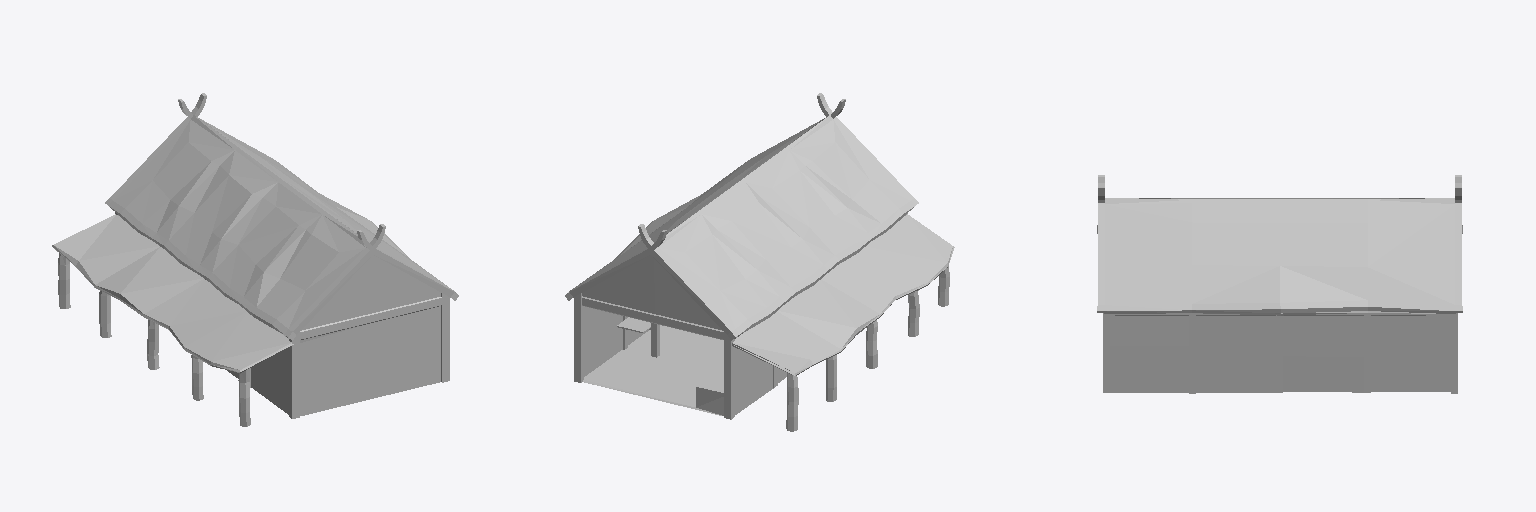
File: Storehouse_LOD01.obj
The picture shows the model from 3 angles: view 1: azimuth 30°, elevation 25°; view 2: azimuth 150°, elevation 25°; view 3: azimuth 270°, elevation 25°; orthographic projection.
Visible parts, largest first — view 1: Decals_LOD01_Longhouse_002, Storehouse_LOD01_Longhouse; view 2: Decals_LOD01_Longhouse_002, Storehouse_LOD01_Longhouse; view 3: Decals_LOD01_Longhouse_002, Storehouse_LOD01_Longhouse.
Part boxes in pixels (x1,y1,x2,y2): Decals_LOD01_Longhouse_002: (52, 115, 455, 387); Storehouse_LOD01_Longhouse: (99, 93, 458, 426); Decals_LOD01_Longhouse_002: (568, 115, 954, 431); Storehouse_LOD01_Longhouse: (565, 93, 949, 419); Decals_LOD01_Longhouse_002: (1097, 198, 1462, 393); Storehouse_LOD01_Longhouse: (1097, 175, 1462, 393).
Size of the model in its own units: 7.77 by 5.48 by 10.45.